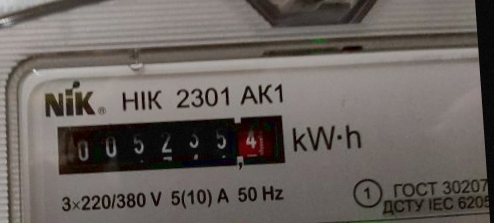0: (74, 135, 92, 163), (103, 132, 118, 158)
2: (158, 127, 173, 153)
3: (185, 123, 201, 149)
4: (242, 123, 259, 150)
5: (212, 122, 229, 150), (130, 129, 146, 156)
screen: (46, 101, 298, 186)
